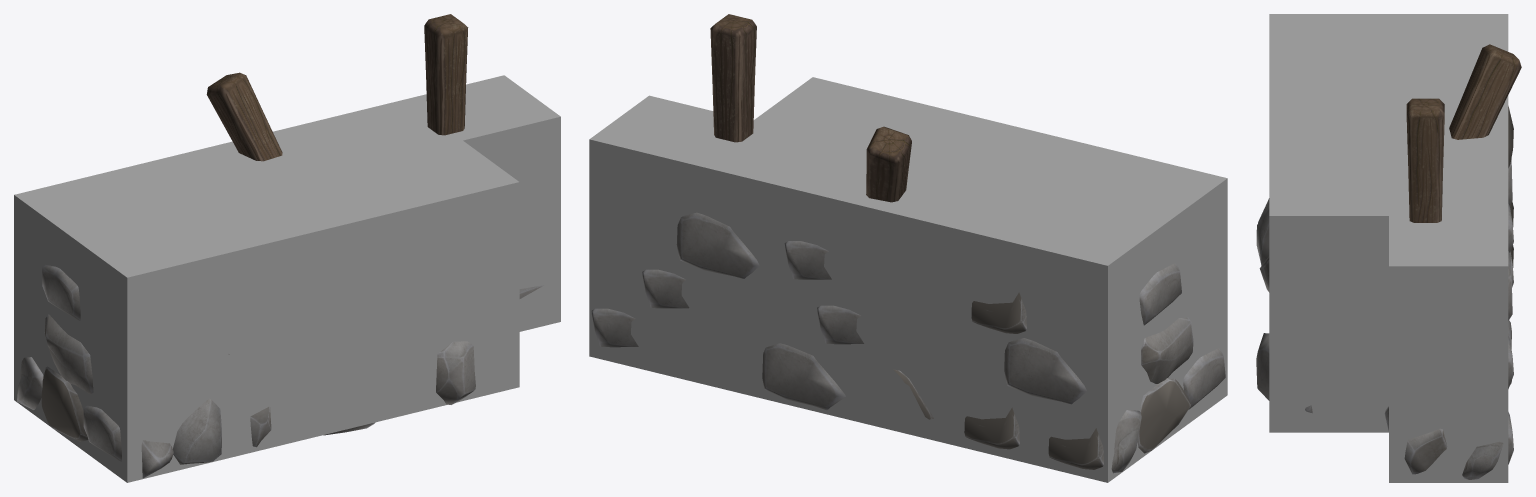
File: little_ruin_variant_1.fbx
3 views of the same model, side by side, from view 1: azimuth 30°, elevation 25°; view 2: azimuth 150°, elevation 25°; view 3: azimuth 270°, elevation 25° (orthographic). The views are drawn at different scales.
Visible parts, largest first — view 1: standardCube4, ruin_2_brick1_low11; view 2: standardCube4, ruin_2_brick1_low11; view 3: standardCube4, ruin_2_brick1_low11.
Boxes of the visible parts, x1=… form: standardCube4: x1=14, y1=75, x2=560, y2=482; ruin_2_brick1_low11: x1=17, y1=14, x2=543, y2=478; standardCube4: x1=589, y1=77, x2=1227, y2=482; ruin_2_brick1_low11: x1=591, y1=14, x2=1225, y2=473; standardCube4: x1=1269, y1=14, x2=1508, y2=482; ruin_2_brick1_low11: x1=1256, y1=44, x2=1521, y2=479.
Size of the model in its own units: 513 by 319 by 222.
Materials: 2 (1 with a texture image).
